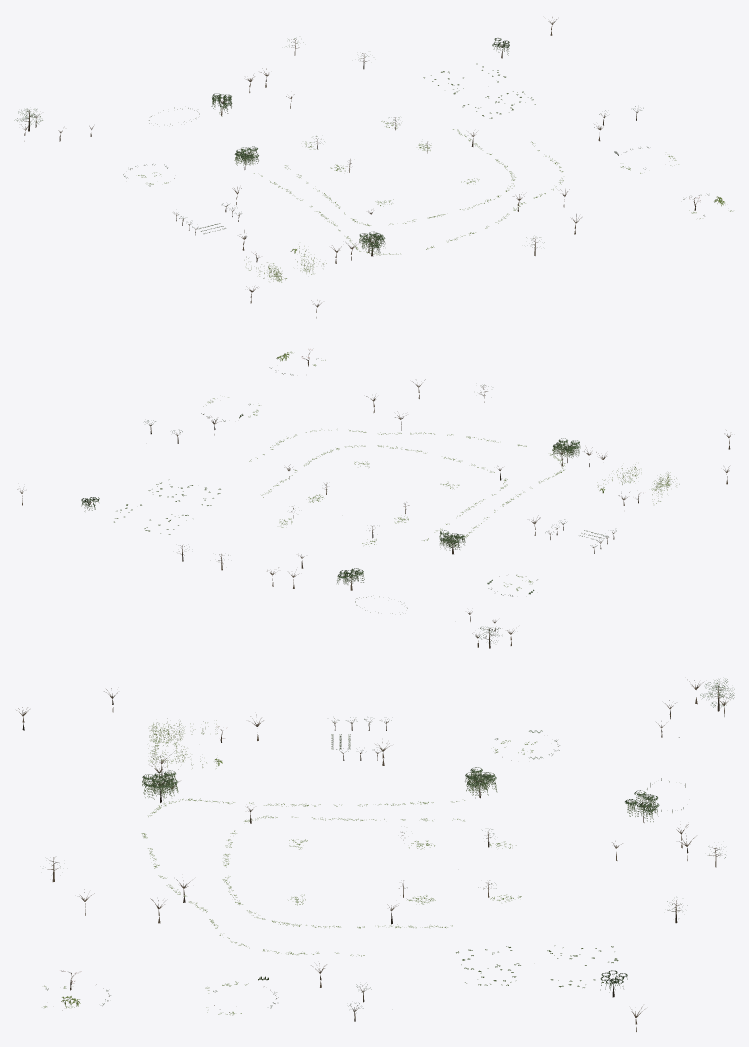
The model's file is overview.glb.
3 views of the same model, one above another, from view 1: azimuth 30°, elevation 25°; view 2: azimuth 150°, elevation 25°; view 3: azimuth 270°, elevation 25° (orthographic). The views are drawn at different scales.
Parts seen in each view (by area): view 1: Mobile_landscape_plants; view 2: Mobile_landscape_plants; view 3: Mobile_landscape_plants, Mobile_landscape_botanical_bamboo.
Boxes of the visible parts, <box> form: Mobile_landscape_plants: <box>21,17,603,318</box>; Mobile_landscape_plants: <box>17,379,730,645</box>; Mobile_landscape_plants: <box>16,679,703,1031</box>; Mobile_landscape_botanical_bamboo: <box>141,798,464,956</box>.
Bounding box in the file's own units: 281 × 17.21 × 254.
Materials: 6 (5 with a texture image).
